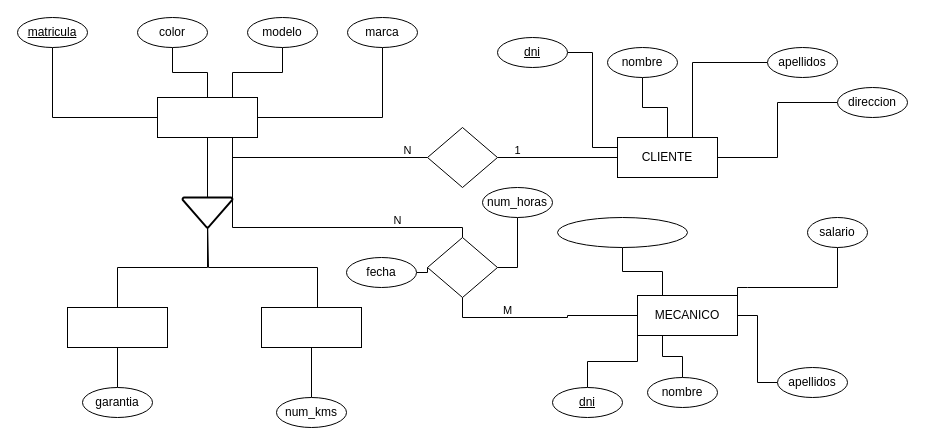
The diagram is 925 pixels wide and 445 high, and some of its shapes have lost their labels. Here are the shapes that lost their labels. From the top down, the centre of each, then its label:
At (207,117): "COCHE".
At (462,157): "compra".
At (622,232): "fecha_contratacion".
At (462,267): "repara".
At (117,327): "NUEVO".
At (311,327): "USADO".
